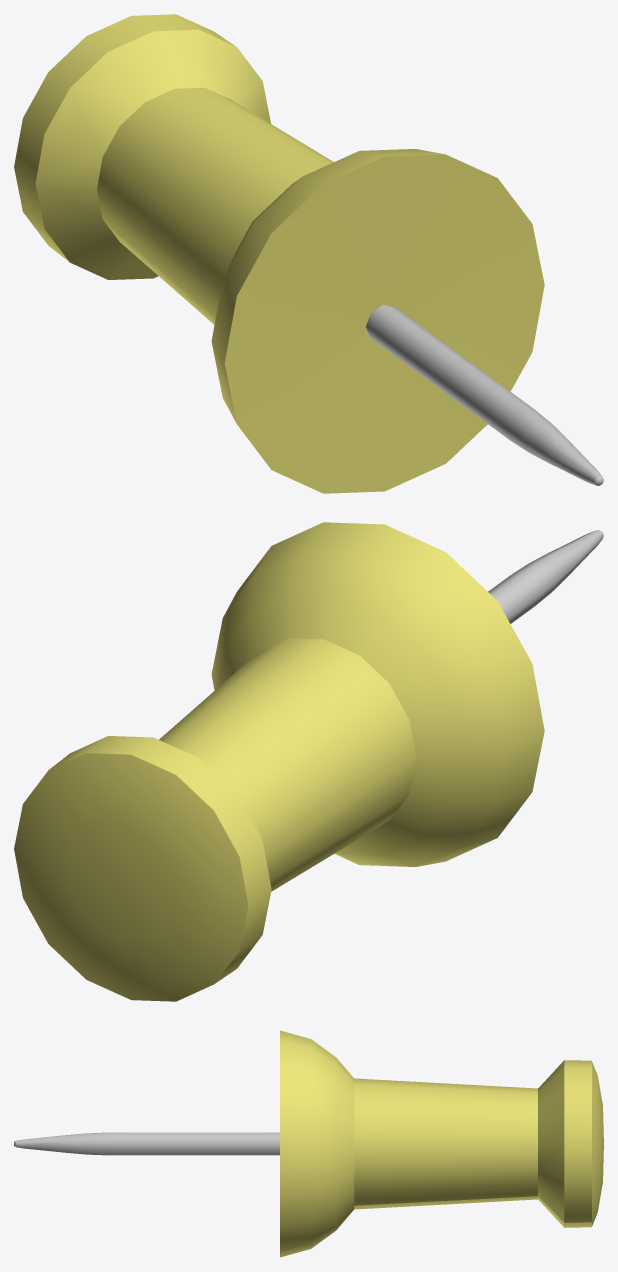
File: 노랑압정 1.fbx
3 renders of one model, top to bottom at view 1: azimuth 30°, elevation 25°; view 2: azimuth 150°, elevation 25°; view 3: azimuth 270°, elevation 25°, orthographic. The views are drawn at different scales.
Visible parts, largest first — view 1: pin_plastic; view 2: pin_plastic; view 3: pin_plastic.
Boxes of the visible parts, <box> form: pin_plastic: <box>14,14,603,493</box>; pin_plastic: <box>14,522,603,1001</box>; pin_plastic: <box>14,1030,603,1257</box>.
Bounding box in the file's own units: 92.73 × 92.73 × 241.
